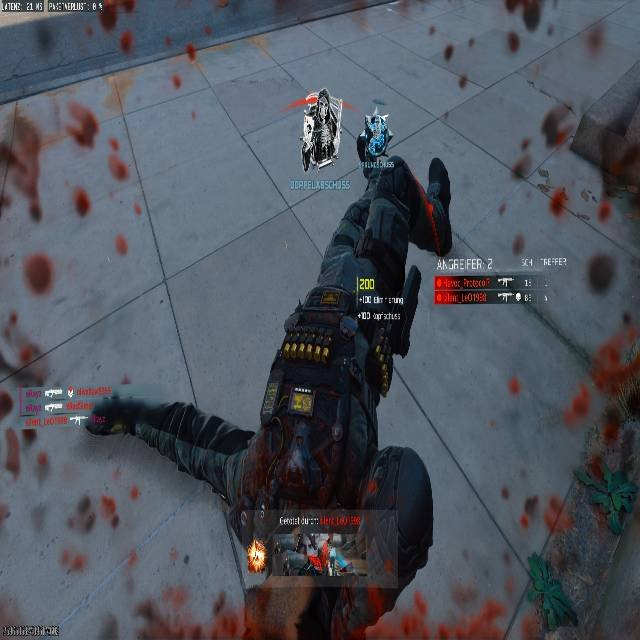head: (63, 101, 100, 145)
player: (254, 86, 459, 635)
